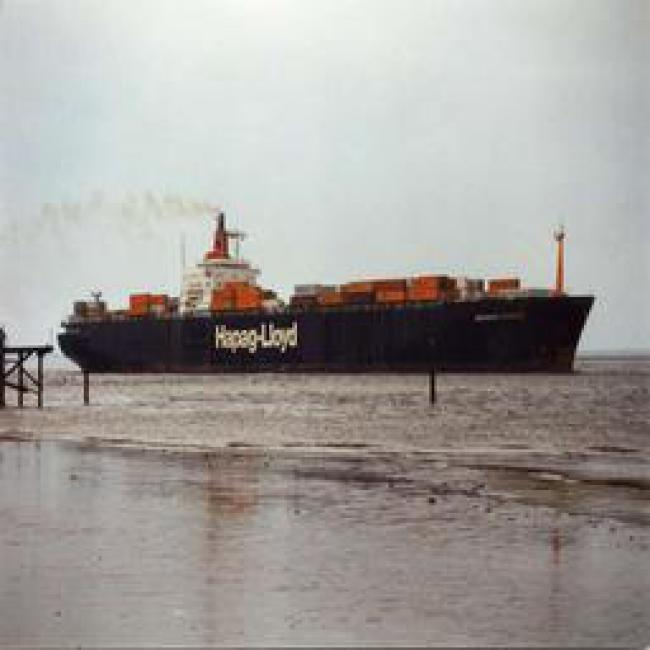Ship: (41, 262, 628, 381)
